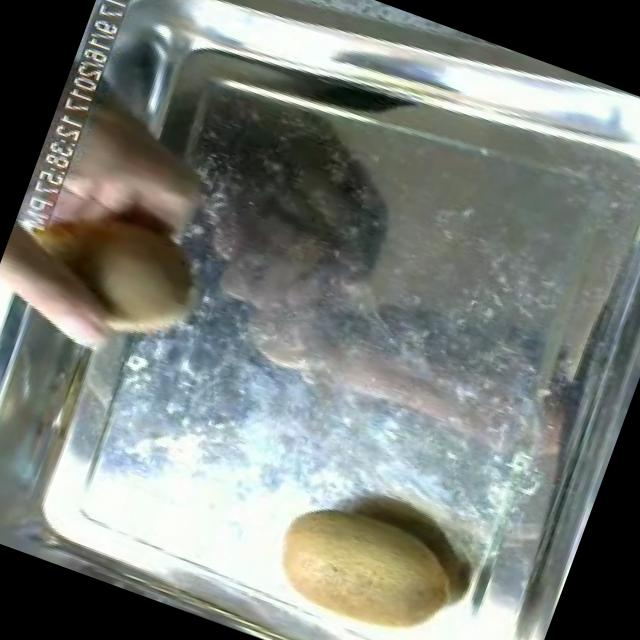Fruit: (0, 168, 228, 386), (249, 473, 478, 640)
